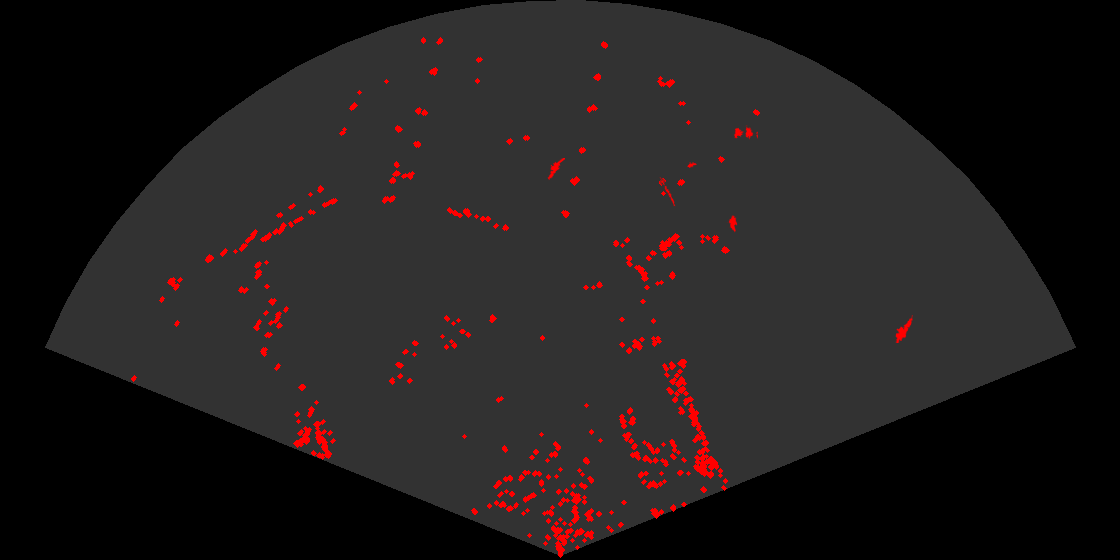AUV: (726, 214, 739, 233), (686, 162, 698, 169)
cage: (732, 124, 758, 140)
chain: (658, 177, 677, 208)
frogman: (894, 315, 913, 343), (546, 158, 565, 181)
